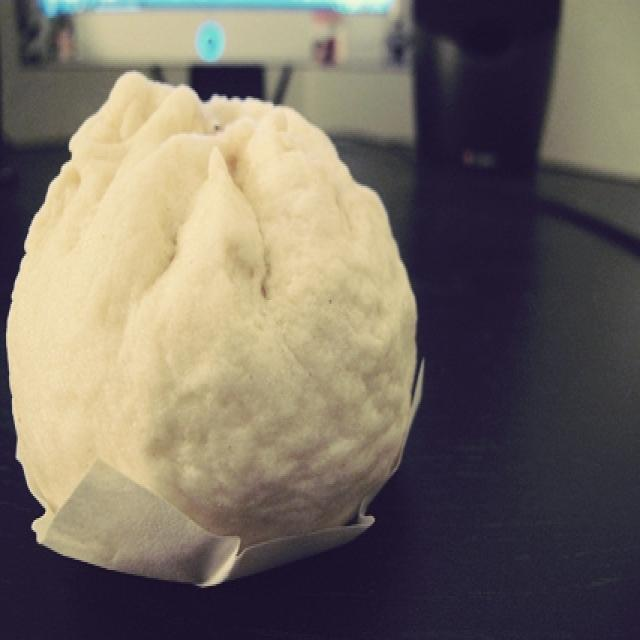带馅早点: (8, 24, 445, 594)
